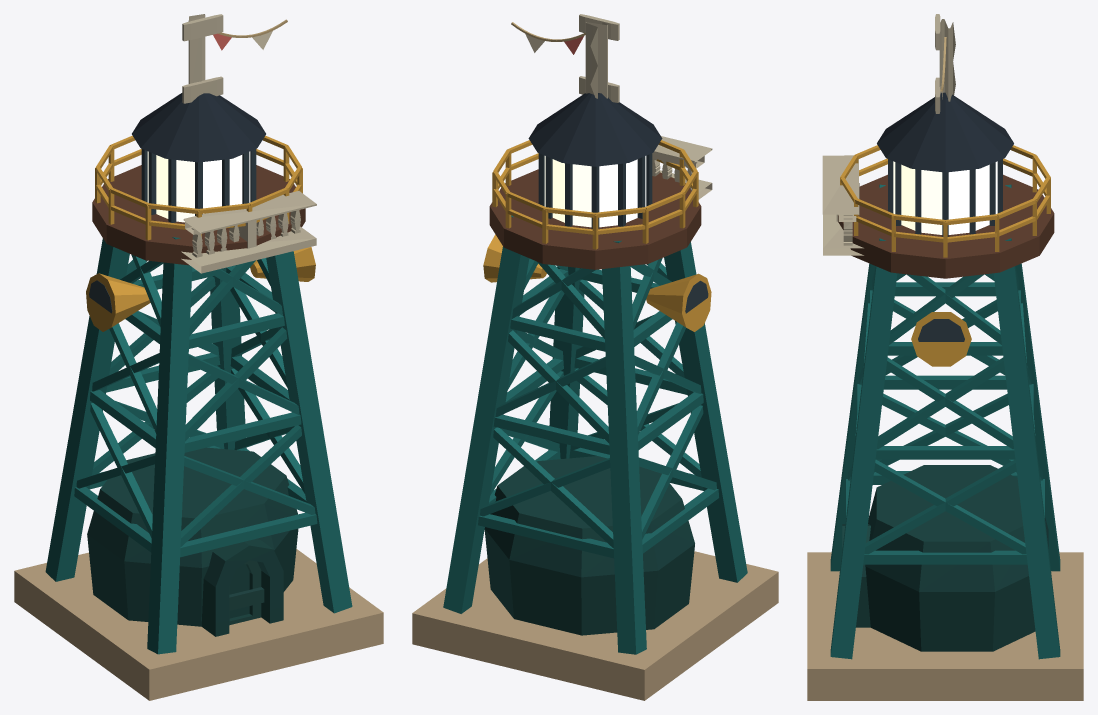
The model's file is signal-tower.glb.
3 views of the same model, side by side, from view 1: azimuth 30°, elevation 25°; view 2: azimuth 150°, elevation 25°; view 3: azimuth 270°, elevation 25° (orthographic). The views are drawn at different scales.
Parts seen in each view (by area): view 1: signal-tower; view 2: signal-tower; view 3: signal-tower.
Part boxes in pixels (box(x1,y1,x2,y2)): signal-tower: box(14, 14, 383, 700); signal-tower: box(412, 14, 778, 700); signal-tower: box(807, 14, 1083, 700).
Size of the model in its own units: 3.45 by 8.53 by 3.45.
